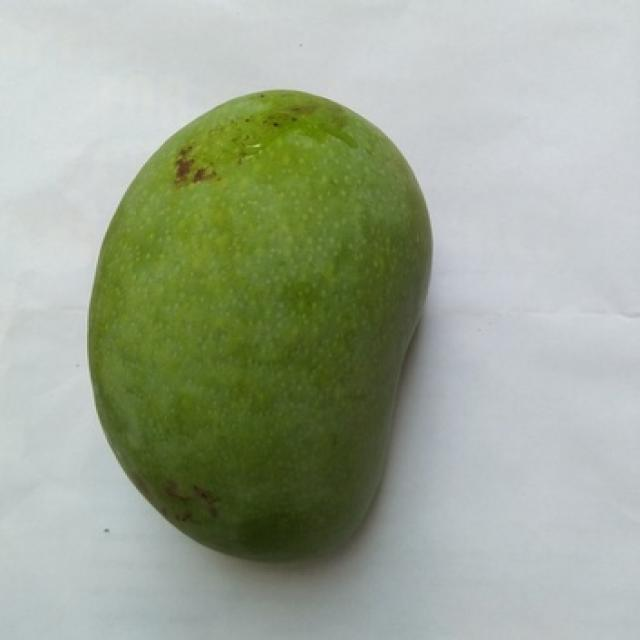Mango: (87, 91, 430, 558)
